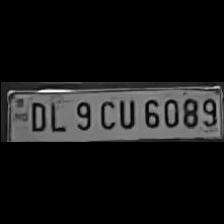0: (160, 96, 180, 128)
6: (138, 96, 160, 128)
8: (180, 96, 198, 128)
9: (69, 96, 93, 132), (198, 94, 218, 128)
C: (95, 96, 115, 130)
D: (26, 99, 46, 133)
L: (46, 97, 68, 132)
U: (114, 96, 136, 130)
